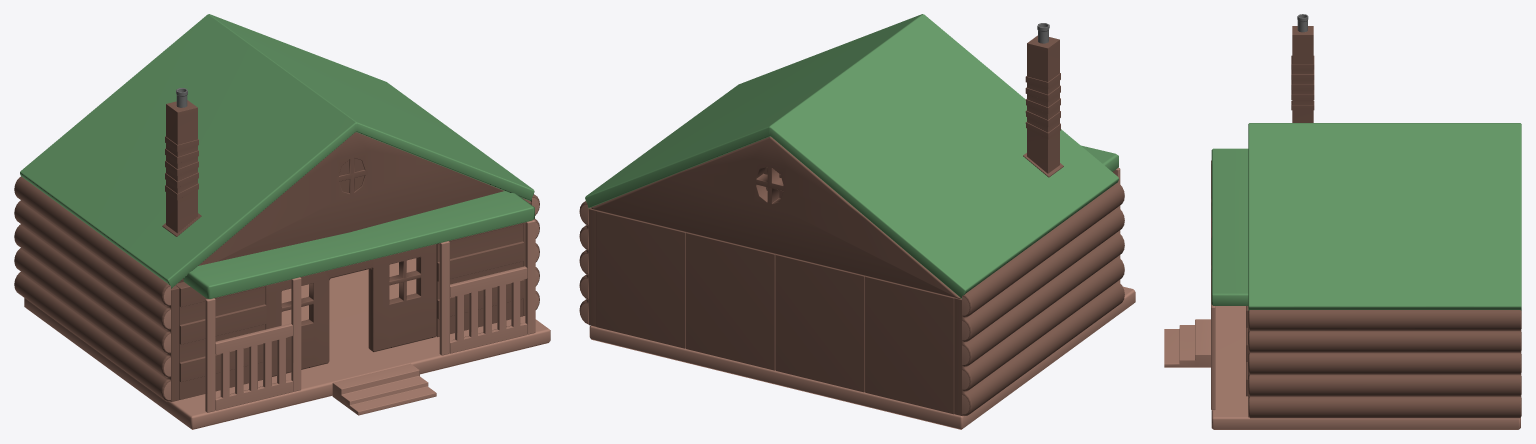
File: Cabin.fbx
3 renders of one model, left to right at view 1: azimuth 30°, elevation 25°; view 2: azimuth 150°, elevation 25°; view 3: azimuth 270°, elevation 25°, orthographic. The views are drawn at different scales.
Parts seen in each view (by area): view 1: Cabin; view 2: Cabin; view 3: Cabin.
Part boxes in pixels (x1,y1,x2,y2): Cabin: [14, 14, 550, 429]; Cabin: [579, 14, 1135, 429]; Cabin: [1164, 14, 1521, 429].
Bounding box in the file's own units: 17.98 × 13.36 × 15.98.
